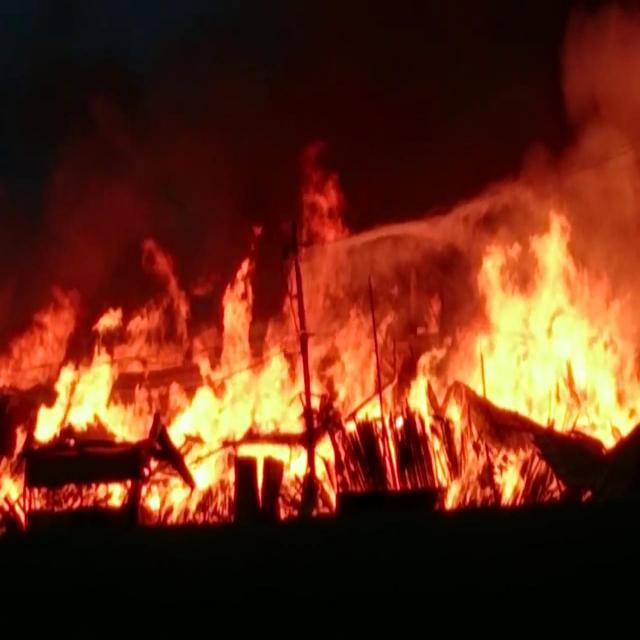fire: (2, 219, 633, 521)
